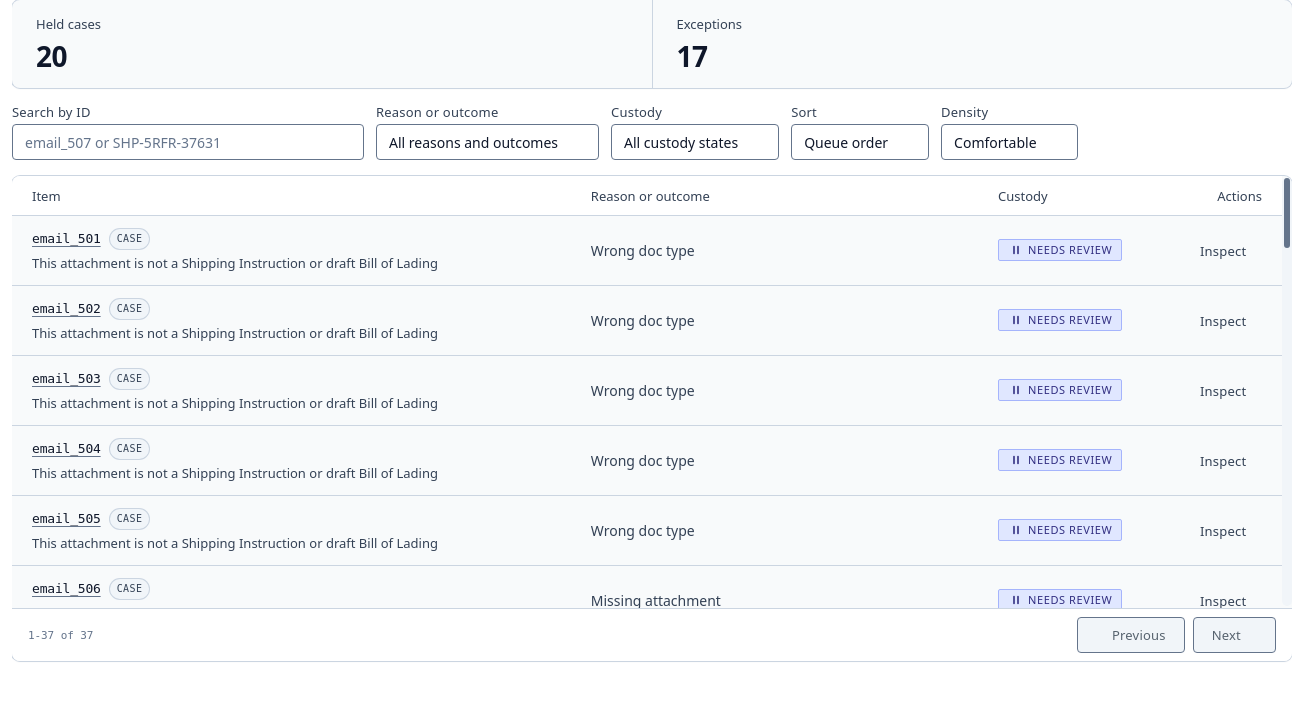
Test case: ReviewQueueView › searches by any email or shipment a row names, keeping the counts whole
Type "SHP-5RFR-37631" into the search field labelled "Search by ID" at (174, 142), box [25, 125, 323, 159]
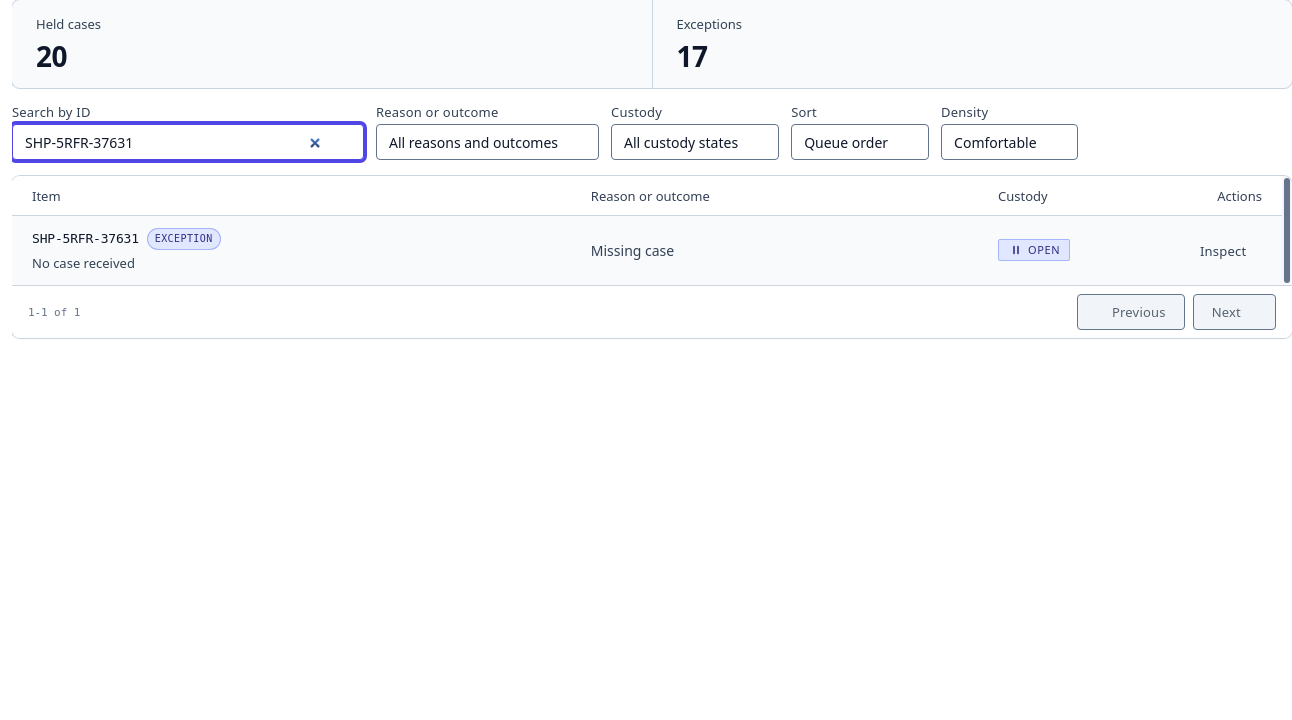
Check: the element with class "rq-metrics" reads "Held cases 20 Exceptions 17", box [12, 0, 1291, 88]
Check: the text "1-1 of 1" is shown, box [28, 304, 80, 320]
# email_511 is a held case, and the exception for its shipment links it.
Replace the text in the search field labelled "Search by ID" with "email_511" at (174, 142), box [25, 125, 323, 159]
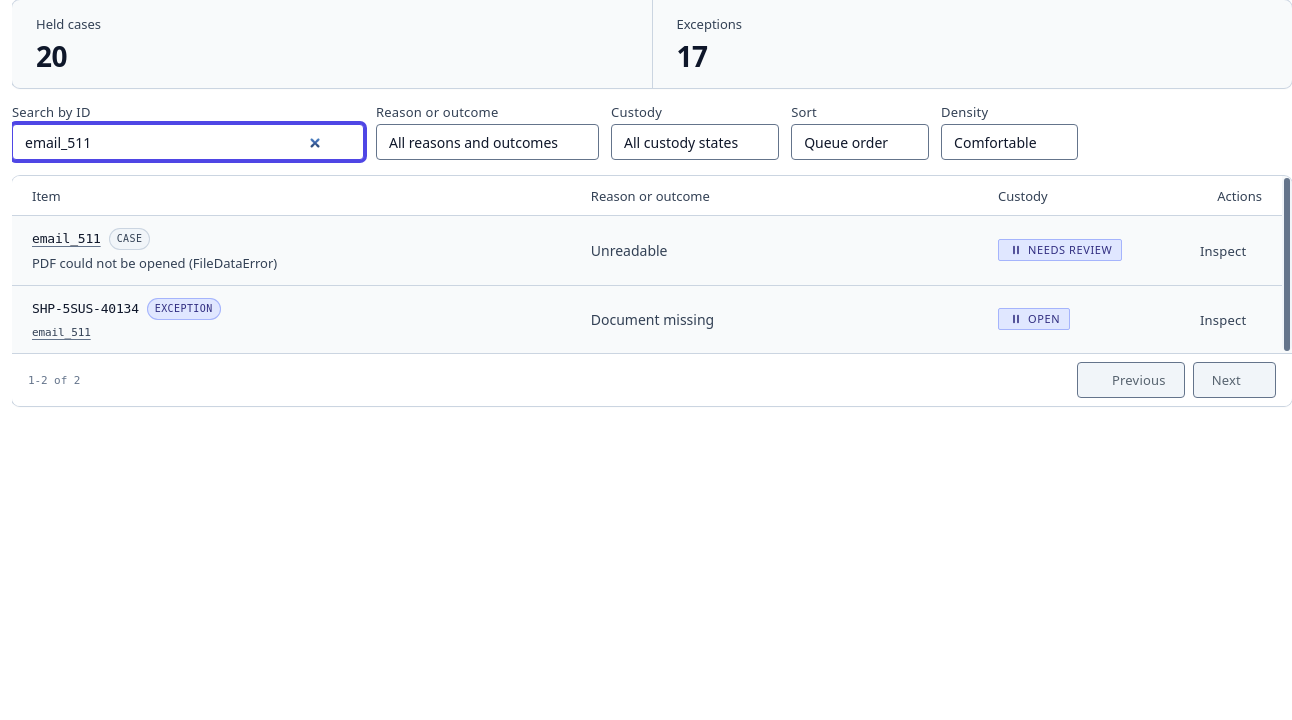
Check: the button with aria-label "Inspect Case email_511" is shown, box [1182, 232, 1264, 268]
Check: the button with aria-label "Inspect Exception SHP-5SUS-40134" is shown, box [1182, 302, 1264, 338]
Check: the text "1-2 of 2" is shown, box [28, 372, 80, 388]
